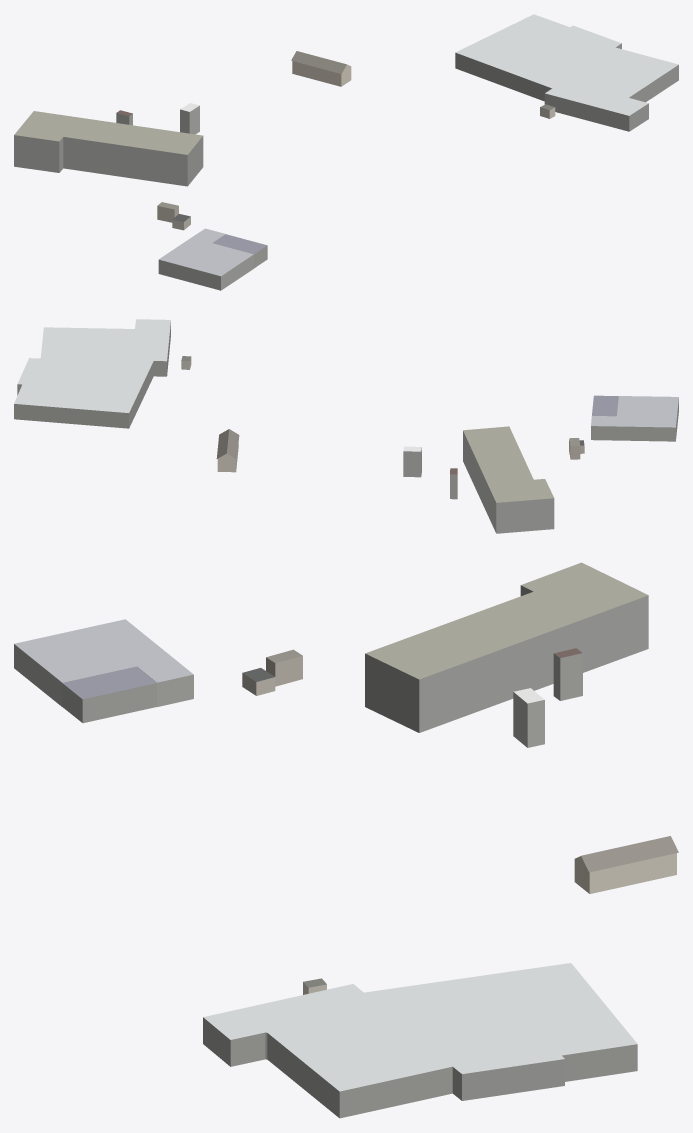
3 renders of one model, top to bottom at view 1: azimuth 30°, elevation 25°; view 2: azimuth 150°, elevation 25°; view 3: azimuth 270°, elevation 25°, orthographic. The views are drawn at different scales.
Visible parts, largest first — view 1: tuile; view 2: tuile; view 3: tuile.
Part boxes in pixels (x1,y1,x2,y2): tuile: (14, 14, 678, 290); tuile: (14, 319, 678, 533); tuile: (14, 562, 678, 1118).
Size of the model in its own units: 288 by 19.89 by 165.
